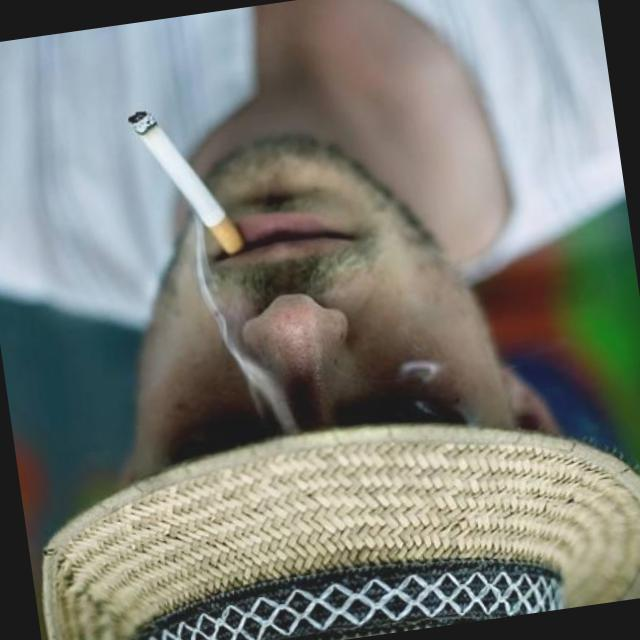cigarette: (113, 79, 260, 283)
